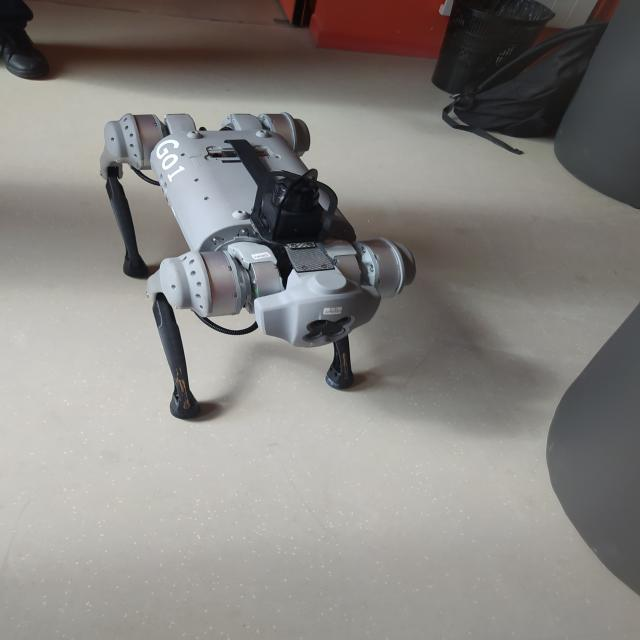unitree-go1-robot: (78, 100, 424, 436)
